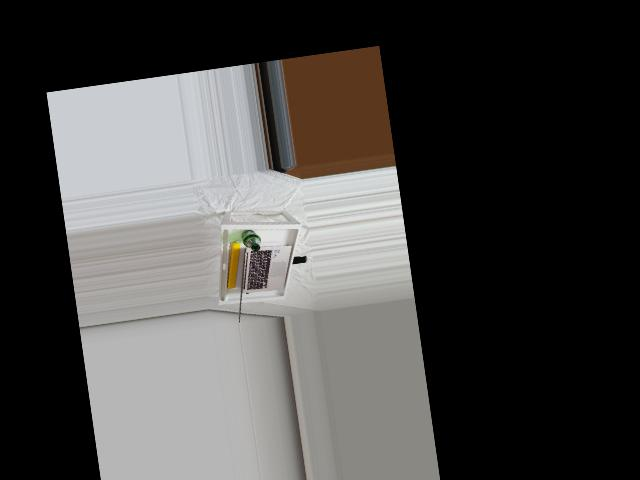beer: (240, 228, 262, 252)
